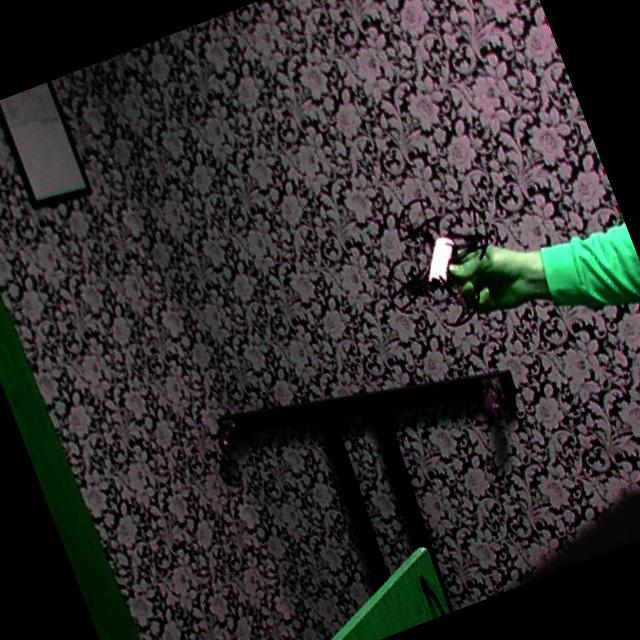drone: (357, 180, 520, 356)
